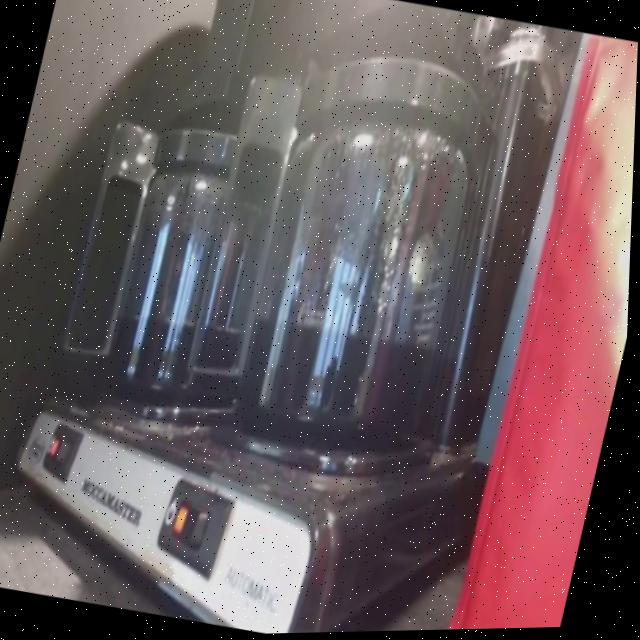coffee: (218, 26, 528, 482), (87, 94, 298, 432)
